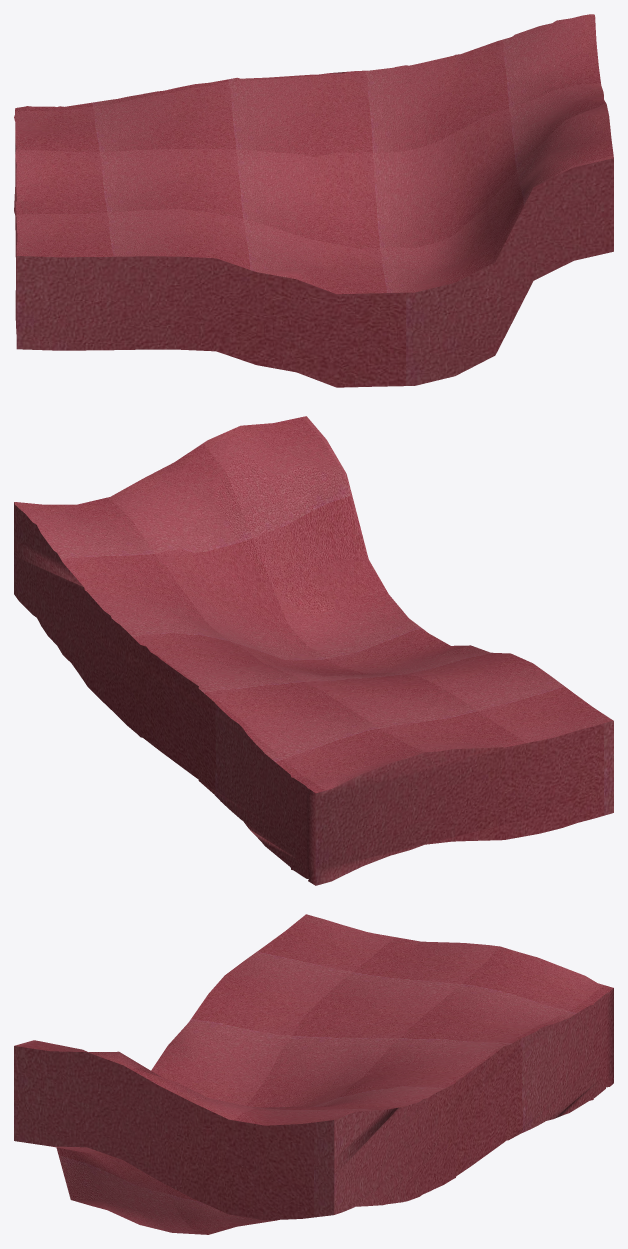
3 views of the same model, one above another, from view 1: azimuth 30°, elevation 25°; view 2: azimuth 150°, elevation 25°; view 3: azimuth 270°, elevation 25° (orthographic). The views are drawn at different scales.
Visible parts, largest first — view 1: J; view 2: J; view 3: J.
Boxes of the visible parts, <box> form: J: <box>14,14,613,387</box>; J: <box>14,416,613,885</box>; J: <box>14,914,613,1234</box>.
Bounding box in the file's own units: 1718 × 670 × 1480.
Materials: 1 (1 with a texture image).
